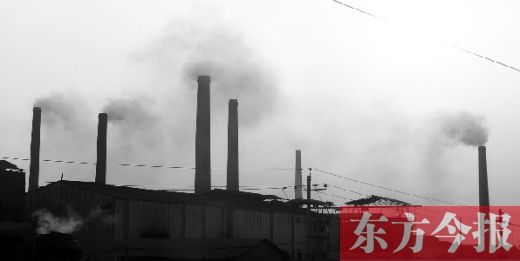dust: (176, 31, 276, 107), (425, 110, 493, 150), (21, 84, 86, 120), (93, 96, 158, 128)
